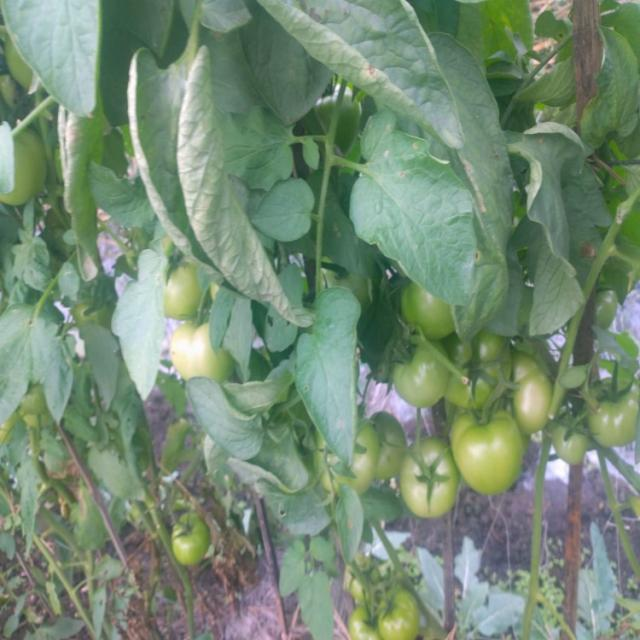tomato: (443, 413, 534, 495), (451, 320, 510, 413), (151, 233, 212, 319), (1, 127, 58, 209), (384, 337, 448, 409), (166, 316, 231, 383), (398, 436, 455, 512), (403, 273, 464, 342), (324, 418, 379, 492), (585, 374, 640, 445), (515, 361, 557, 429), (375, 590, 432, 640), (375, 407, 407, 476), (174, 512, 211, 565), (17, 383, 57, 429), (343, 552, 380, 600), (558, 412, 592, 462), (76, 299, 118, 338), (592, 285, 622, 332), (348, 606, 381, 640)
